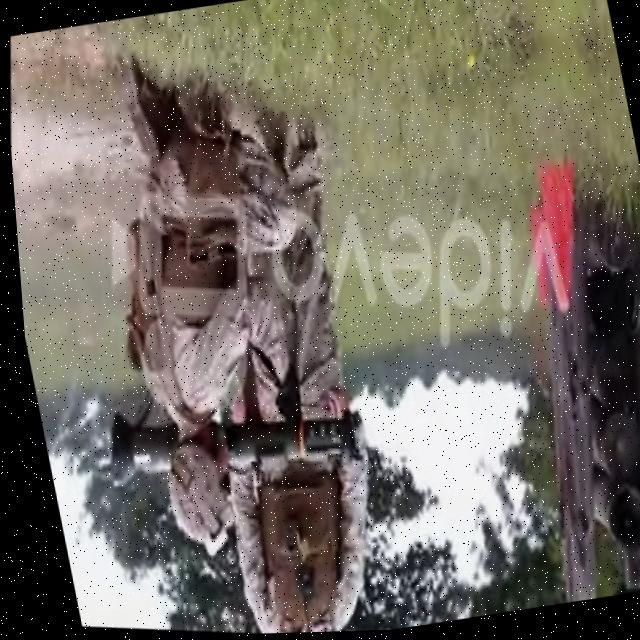rocket: (81, 366, 375, 536)
